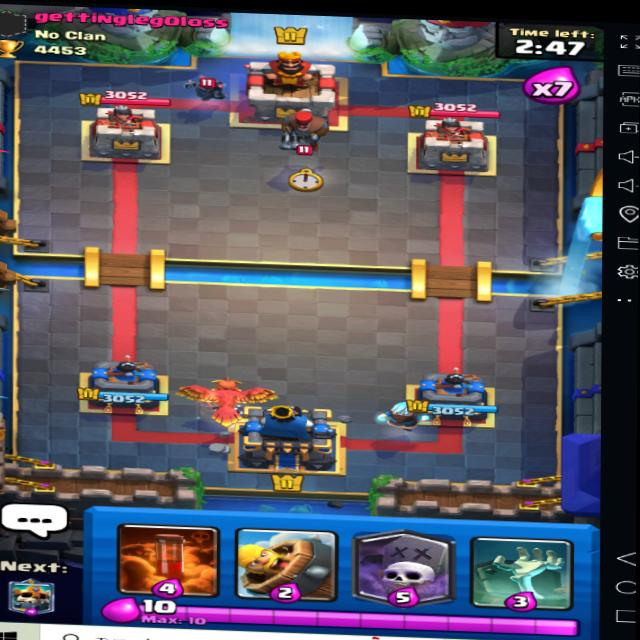hunter: (268, 106, 342, 165)
mini-pekka: (184, 75, 234, 105)
